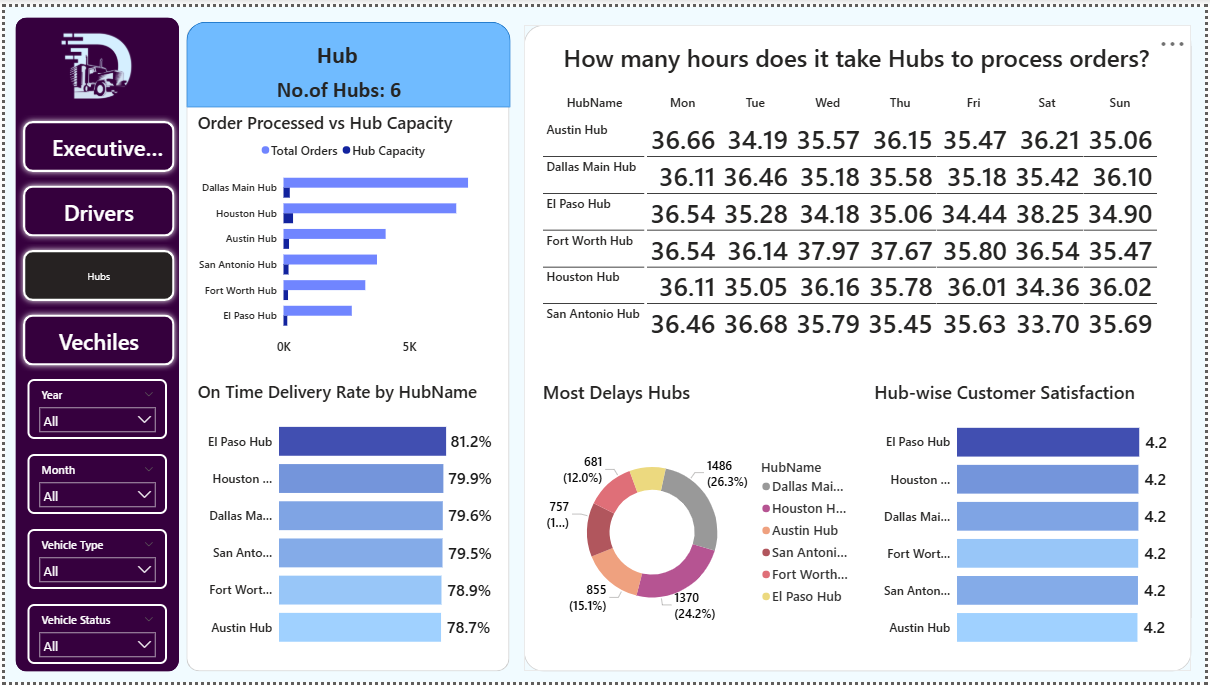

This screenshot's page, from the dashboard's own definition file:
{"tool":"powerbi","page":{"name":"Hubs","canvas":[1600,900],"ordinal":2},"visuals":[{"type":"group","id":"g1","title":"Group 3","box":[692,24,890,862],"z":0},{"type":"group","id":"g2","title":"Group 2","box":[692,24,890,862],"z":0,"group":"g1"},{"type":"group","id":"g3","title":"Group 2","box":[242,20,432,866],"z":1000},{"type":"shape","box":[14,14,218,872],"z":2000},{"type":"image","box":[14,20,218,124],"z":3000},{"type":"clusteredBarChart","title":"Order Processed vs Hub Capacity","fields":{"Category":["Hubs.HubName"],"Y":["Hubs.Measure","Sum(Hubs.Hub Capacity)"]},"box":[252,138,402,336],"z":4000},{"type":"clusteredBarChart","fields":{"Category":["Hubs.HubName"],"Y":["Measure.On Time Delivery Rate"]},"box":[252,496,402,376],"z":5000},{"type":"shape","box":[692,24,890,862],"z":6000,"group":"g5"},{"type":"shape","box":[242,24.2,430.5,861.8],"z":6000,"group":"g4"},{"type":"card","fields":{"Values":["Measure.No.Of Hub"]},"box":[252,58,386,102],"z":6000},{"type":"shape","box":[242,20,432,114],"z":7000,"group":"g4"},{"type":"textbox","box":[360,38,166,66],"z":7000},{"type":"pivotTable","fields":{"Rows":["Hubs.HubName"],"Columns":["Date Table.Day"],"Values":["Measure.Average Time Delivery"]},"box":[712,110,850,346],"z":8000},{"type":"card","fields":{"Values":["Measure.Hub Tittle"]},"box":[712,38,846,60],"z":9000},{"type":"donutChart","title":"Most Delays Hubs","fields":{"Category":["Hubs.HubName"],"Y":["Measure.Delay Orders"]},"box":[712,496,426,376],"z":10000},{"type":"textbox","box":[849,49.5,488.8,109.7],"z":11000,"group":"g2"},{"type":"textbox","box":[324.9,49.7,236.4,109.6],"z":11000,"group":"g3"},{"type":"barChart","title":"Hub-wise Customer Satisfaction","fields":{"Category":["Hubs.HubName"],"Y":["Avg(Orders.Customer Satisfaction Score)"]},"box":[1154,496,408,376],"z":11000},{"type":"pageNavigator","box":[16,144,218,344],"z":12000},{"type":"slicer","fields":{"Values":["Date Table.Year"]},"box":[30,496,186,80],"z":13000},{"type":"slicer","fields":{"Values":["Date Table.Month"]},"box":[30,596,186,80],"z":14000},{"type":"group","id":"g4","title":"Group 1","box":[242,20,432,866],"z":14001,"group":"g3"},{"type":"group","id":"g5","title":"Group 1","box":[692,24,890,862],"z":14001,"group":"g2"},{"type":"slicer","fields":{"Values":["Orders.Vehicle Type"]},"box":[30,696,186,80],"z":15000},{"type":"slicer","fields":{"Values":["Vehicles.Vehicle Status"]},"box":[30,796,186,80],"z":16000}]}

Visuals, with their boxes on the page's 1600x900 design canvas (x1, y1, x2, y2). These are canvas units, not pixel positions in the 1210x685 screenshot, which may show the page scaled, cropped or inside an application window:
"Group 3" group: region(692, 24, 1582, 886)
"Group 2" group: region(692, 24, 1582, 886)
"Group 2" group: region(242, 20, 674, 886)
shape: region(14, 14, 232, 886)
image: region(14, 20, 232, 144)
"Order Processed vs Hub Capacity" clusteredBarChart: region(252, 138, 654, 474)
clusteredBarChart - Hubs.HubName x Measure.On Time Delivery Rate: region(252, 496, 654, 872)
shape: region(692, 24, 1582, 886)
shape: region(242, 24, 672, 886)
card - Measure.No.Of Hub: region(252, 58, 638, 160)
shape: region(242, 20, 674, 134)
textbox: region(360, 38, 526, 104)
pivotTable - Hubs.HubName x Date Table.Day: region(712, 110, 1562, 456)
card - Measure.Hub Tittle: region(712, 38, 1558, 98)
"Most Delays Hubs" donutChart: region(712, 496, 1138, 872)
textbox: region(849, 50, 1338, 159)
textbox: region(325, 50, 561, 159)
"Hub-wise Customer Satisfaction" barChart: region(1154, 496, 1562, 872)
pageNavigator: region(16, 144, 234, 488)
slicer - Date Table.Year: region(30, 496, 216, 576)
slicer - Date Table.Month: region(30, 596, 216, 676)
"Group 1" group: region(242, 20, 674, 886)
"Group 1" group: region(692, 24, 1582, 886)
slicer - Orders.Vehicle Type: region(30, 696, 216, 776)
slicer - Vehicles.Vehicle Status: region(30, 796, 216, 876)
